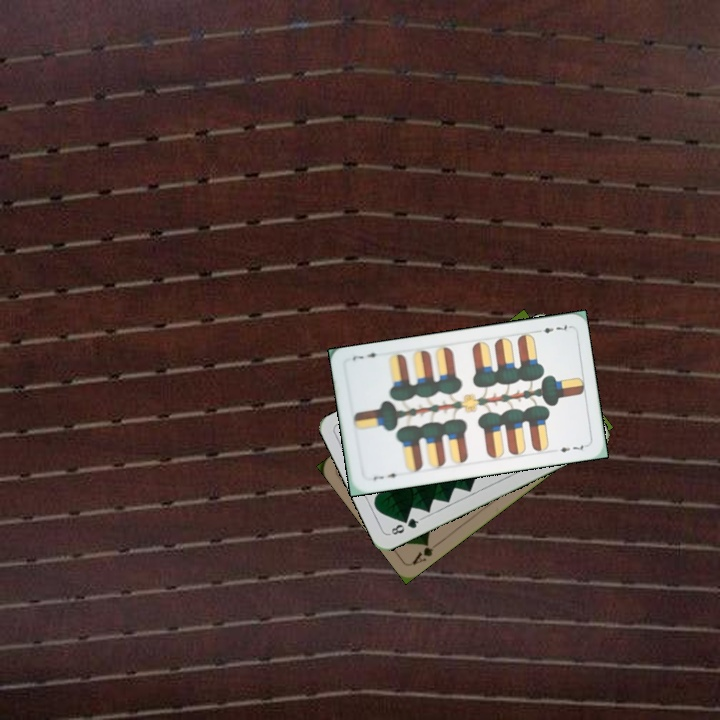E7: (531, 320, 572, 336), (369, 469, 403, 483)
G8: (385, 514, 424, 537)
GA: (408, 537, 443, 567)
